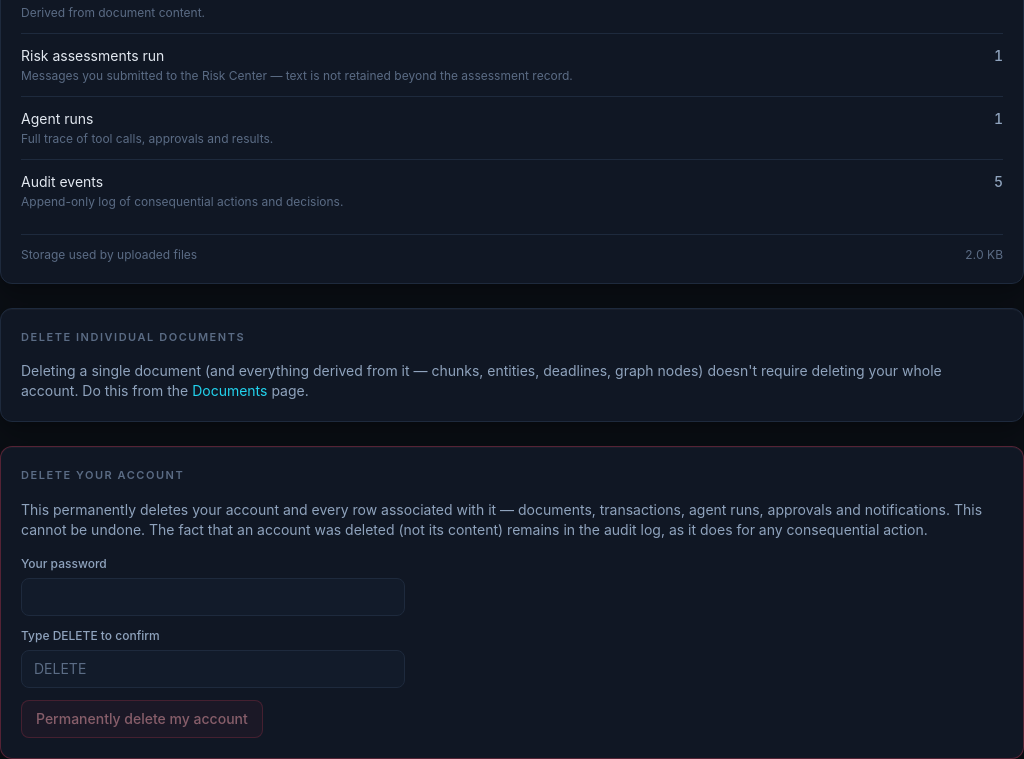
Test: PrivacyPage delete-account gating › keeps the delete button disabled until both a password and DELETE are entered
(page scrolled)
Expected: the button "Permanently delete my account" is disabled, [21, 700, 263, 738]
Type "hunter2" into the password field labelled "Your password". click: (213, 596)
box: [21, 578, 405, 616]
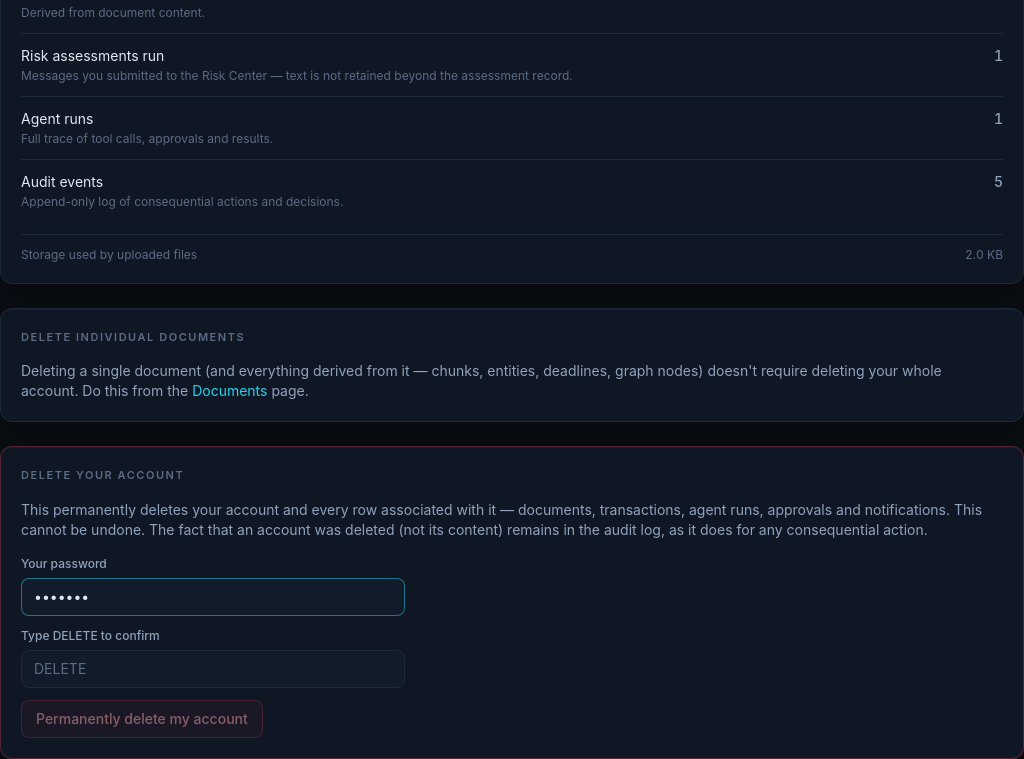
Expected: the button "Permanently delete my account" is disabled, [21, 700, 263, 738]
Type "delete" into the field with placeholder "DELETE". click: (213, 668)
box: [21, 650, 405, 688]
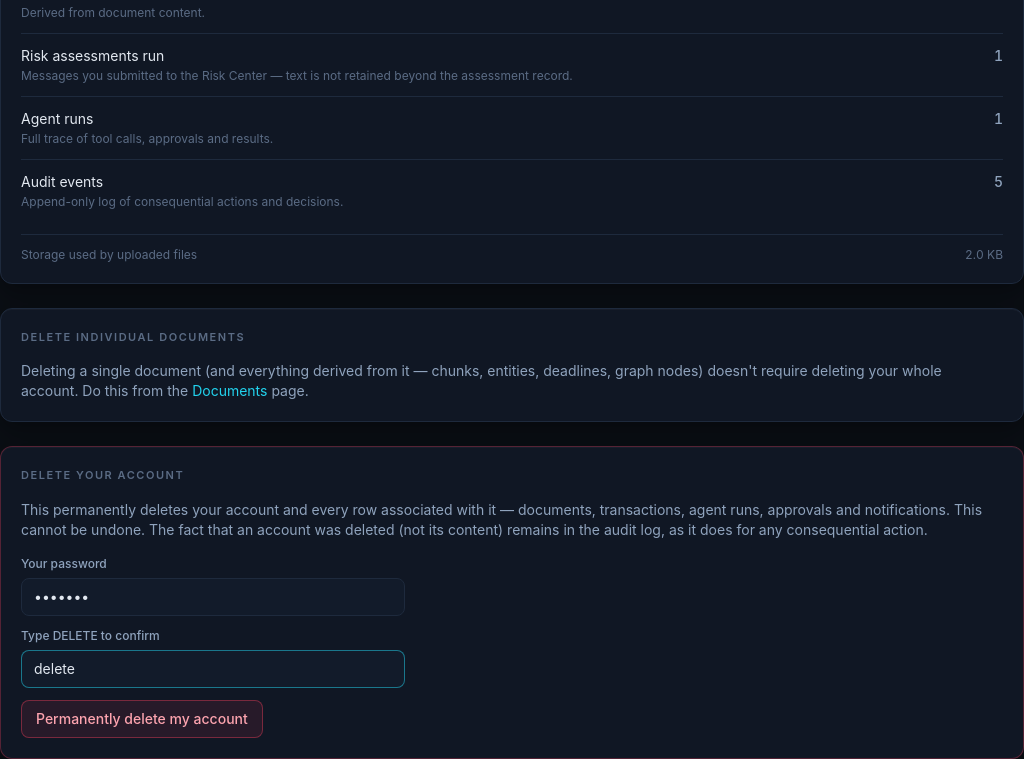
Result: the button "Permanently delete my account" is enabled at [21, 700, 263, 738]
